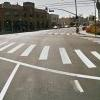Crosswalk: (7, 33, 98, 81)
